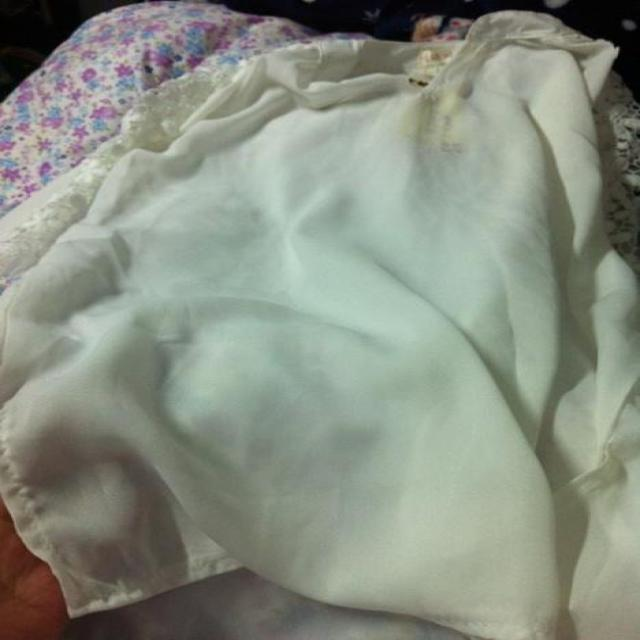short-sleeve-dress: (17, 28, 640, 625)
